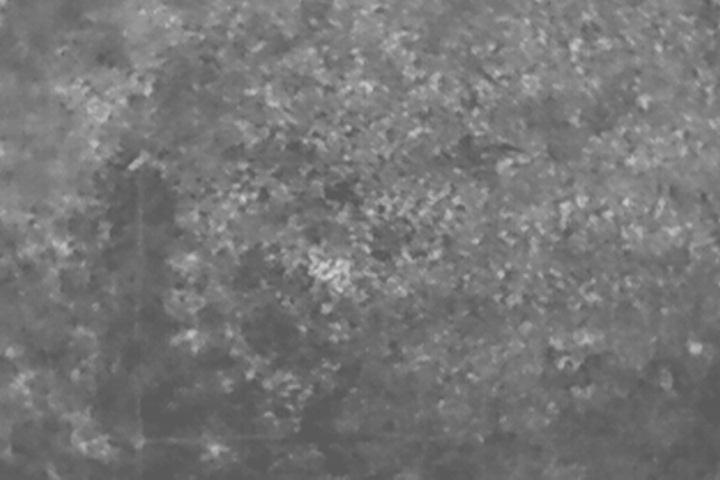landmine: (312, 258, 351, 288)
